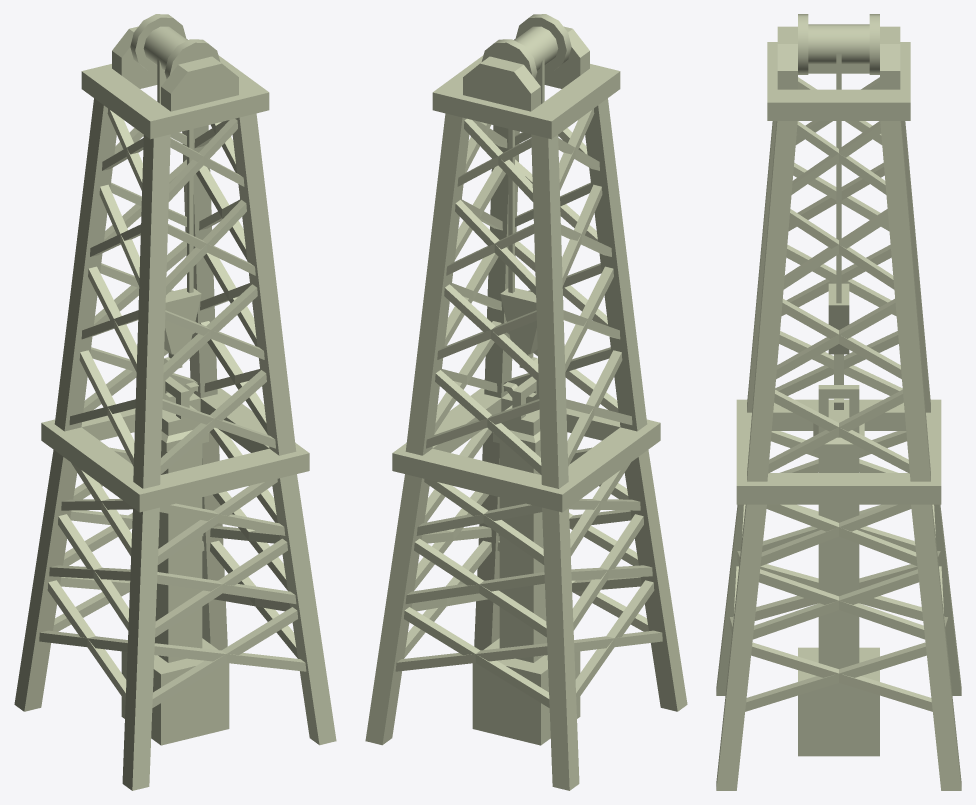
File: derrick.obj
3 views of the same model, side by side, from view 1: azimuth 30°, elevation 25°; view 2: azimuth 150°, elevation 25°; view 3: azimuth 270°, elevation 25° (orthographic). The views are drawn at different scales.
Parts seen in each view (by area): view 1: Plane; view 2: Plane; view 3: Plane.
Boxes of the visible parts, x1=… form: Plane: x1=14, y1=14, x2=336, y2=790; Plane: x1=365, y1=14, x2=687, y2=790; Plane: x1=716, y1=14, x2=961, y2=790.
Bounding box in the file's own units: 3 × 9.75 × 3.
